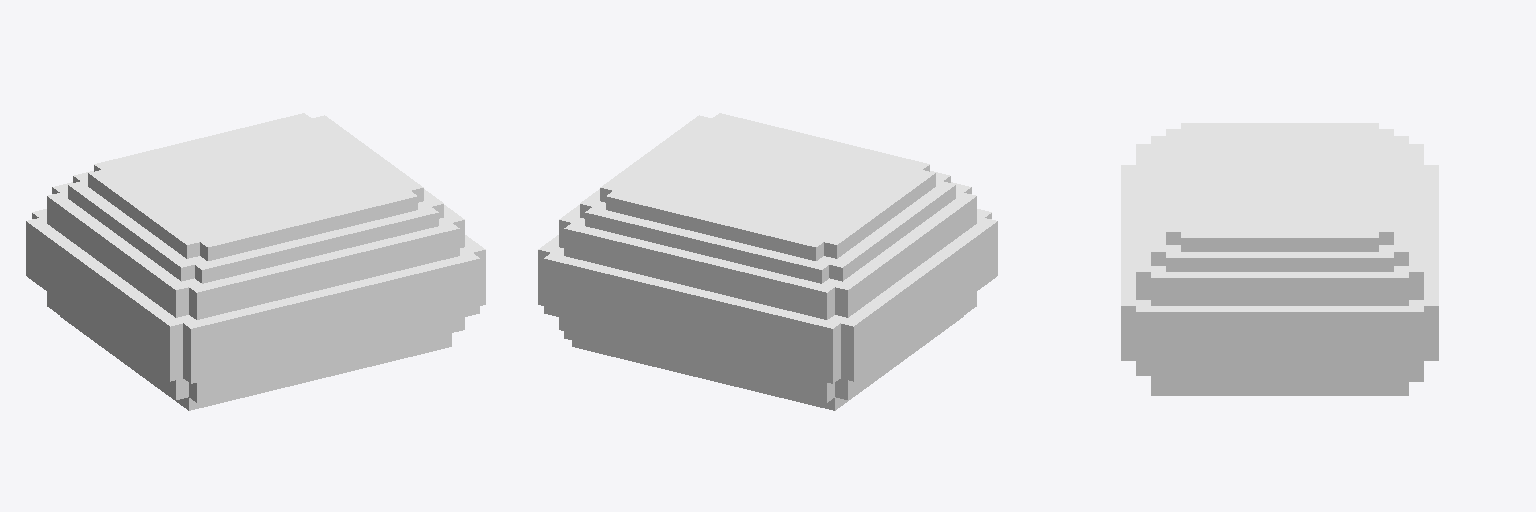
Rendered from камешек.obj.
3 views of the same model, side by side, from view 1: azimuth 30°, elevation 25°; view 2: azimuth 150°, elevation 25°; view 3: azimuth 270°, elevation 25° (orthographic).
Visible parts, largest first — view 1: object 1; view 2: object 1; view 3: object 1.
Part boxes in pixels (x1,y1,x2,y2): object 1: (26, 113, 485, 410); object 1: (538, 113, 997, 410); object 1: (1121, 123, 1438, 395).
Bounding box in the file's own units: 2.4 × 1.1 × 2.1.